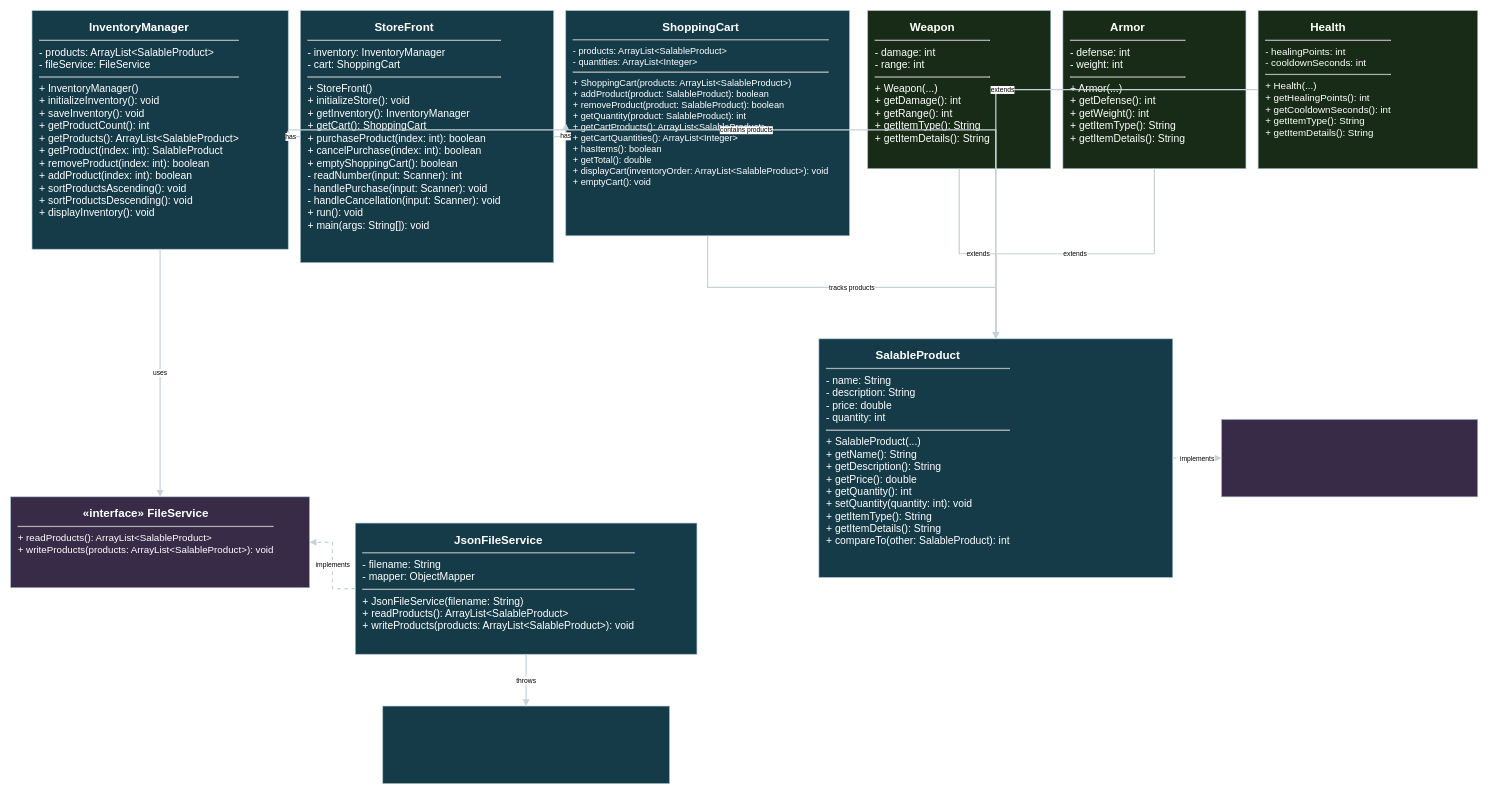
Image size: 1488x794. Some labels were removed from this diagram. Here are the shapes that lost their labels. From the top down, the centre of each, then its label:
At point (1349, 458): "«interface» Comparable<SalableProduct> + compareTo(other: SalableProduct): int".
At point (525, 744): "FileServiceException + FileServiceException(message: String)".
